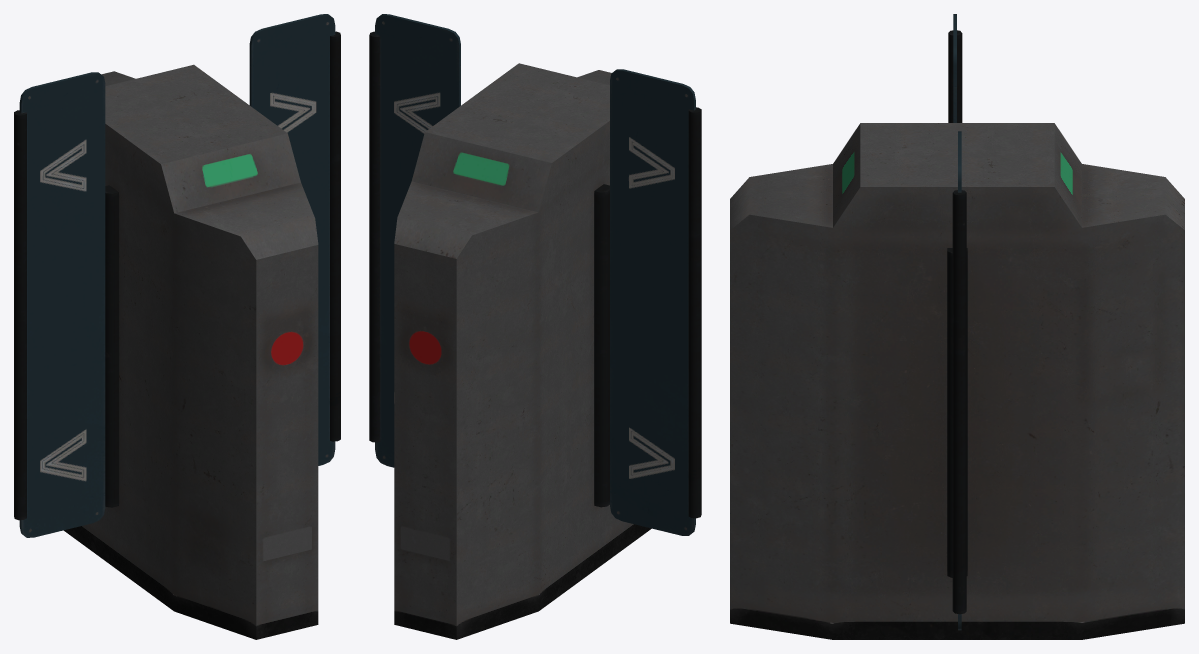
File: SM_ControlGate.FBX
The picture shows the model from 3 angles, left to right: view 1: azimuth 30°, elevation 25°; view 2: azimuth 150°, elevation 25°; view 3: azimuth 270°, elevation 25°; orthographic projection. The views are drawn at different scales.
Parts seen in each view (by area): view 1: SM_ControlGate; view 2: SM_ControlGate; view 3: SM_ControlGate.
Boxes of the visible parts, box(x1,y1,x2,y2) form: SM_ControlGate: box(14, 14, 340, 639); SM_ControlGate: box(369, 14, 701, 639); SM_ControlGate: box(730, 14, 1184, 639).
Size of the model in its own units: 129 by 150 by 189.
